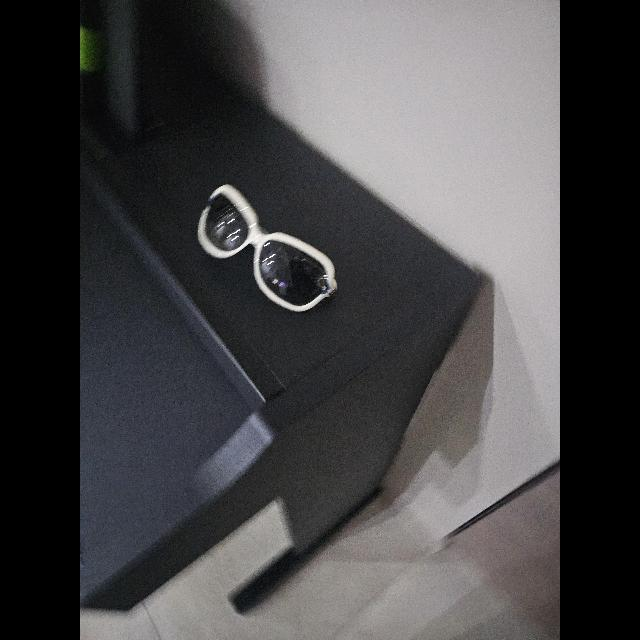Sunglasses: (198, 185, 336, 312)
